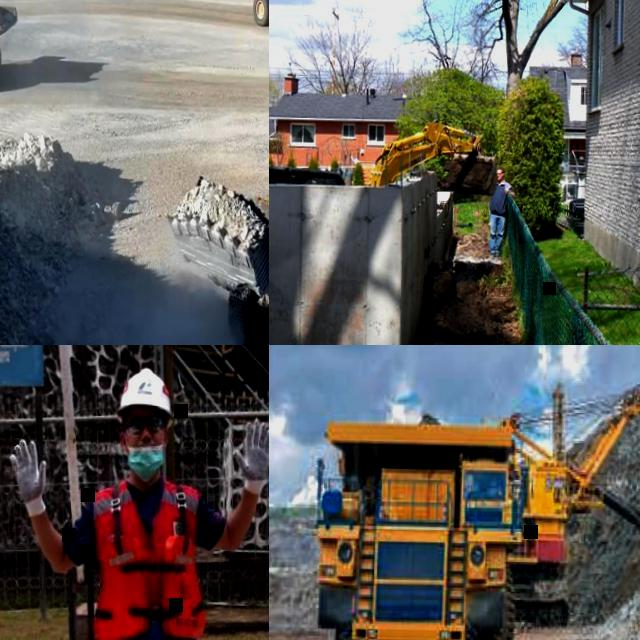helmet: (118, 362, 176, 412)
machinery: (312, 404, 527, 640), (498, 379, 640, 630), (158, 119, 269, 345), (367, 114, 501, 198), (0, 0, 19, 95)
mask: (122, 436, 168, 480)
no_helmet: (496, 165, 505, 172)
no_mask: (496, 173, 504, 180)
no_vest: (488, 180, 507, 213)
person: (0, 355, 269, 640), (485, 164, 517, 254)
vehicle: (269, 160, 347, 187)
vest: (86, 476, 211, 640)
